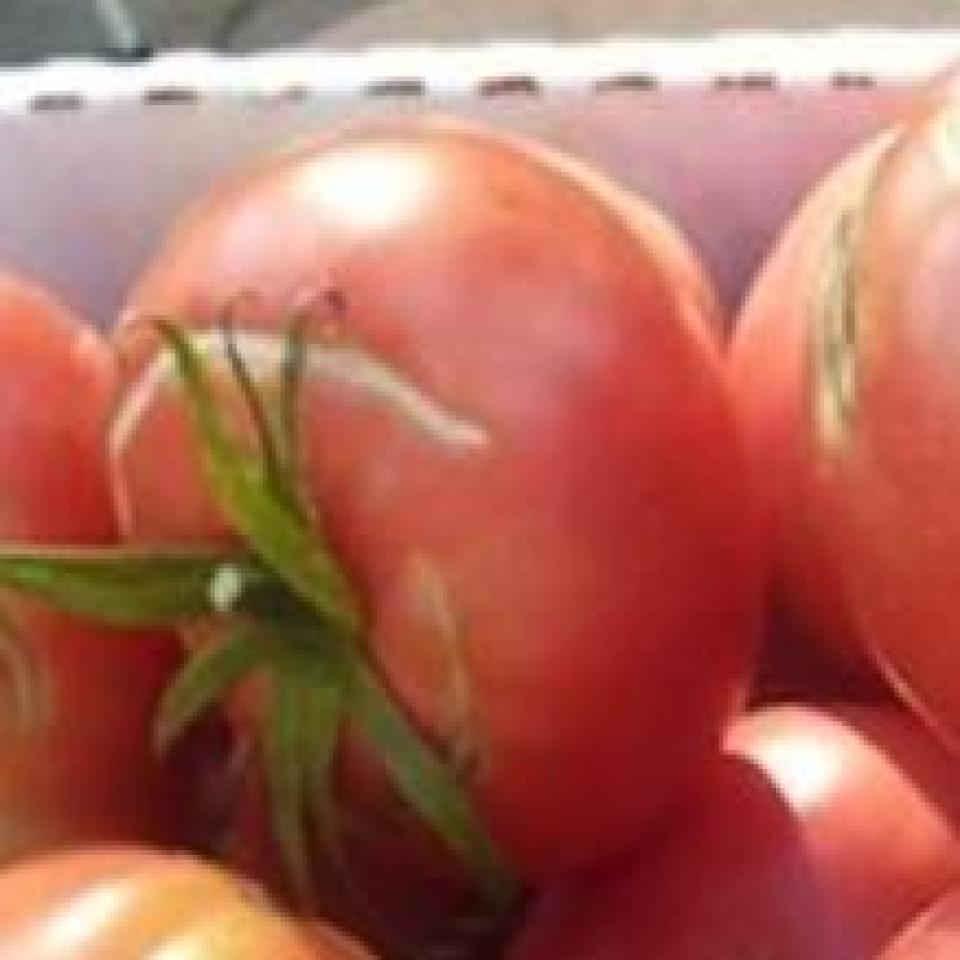Cracking: (91, 308, 543, 545), (366, 498, 498, 833), (788, 122, 906, 456)
